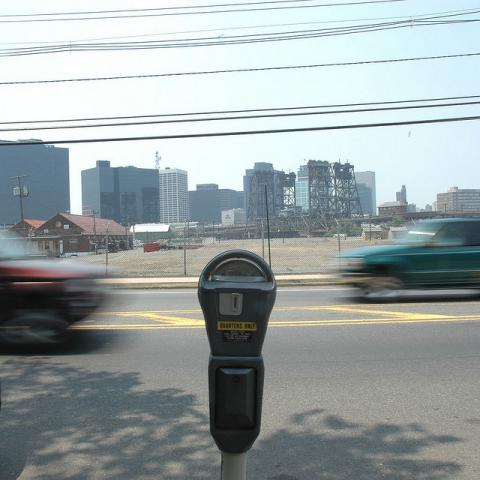car: (0, 224, 120, 348), (348, 213, 479, 304)
